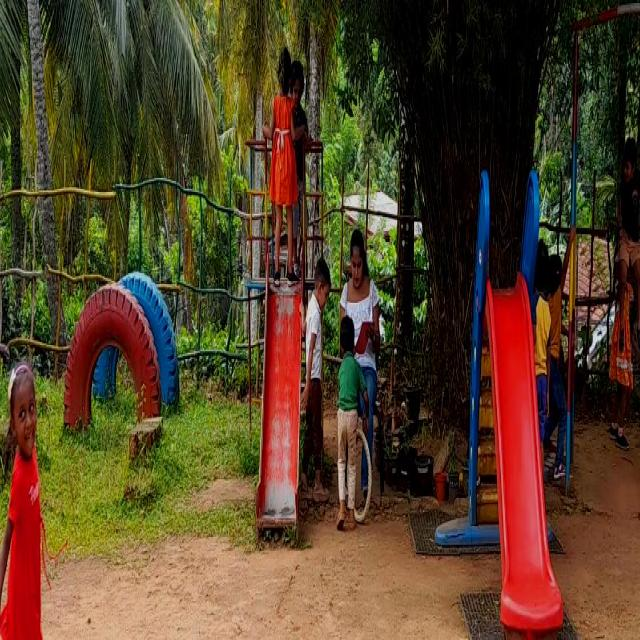adult: (347, 218, 379, 449)
child: (0, 340, 61, 640), (270, 32, 294, 293), (305, 248, 328, 506), (615, 122, 640, 323), (549, 237, 570, 469), (336, 309, 355, 511), (536, 247, 548, 459)
